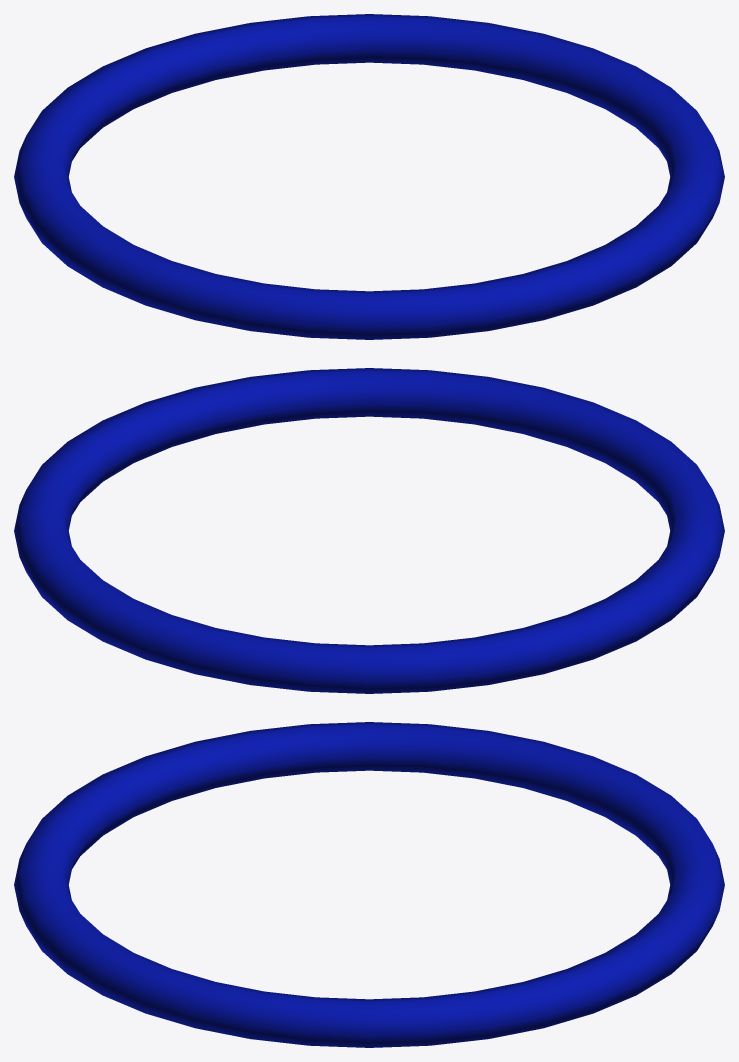
File: hoob_blue.FBX
3 renders of one model, top to bottom at view 1: azimuth 30°, elevation 25°; view 2: azimuth 150°, elevation 25°; view 3: azimuth 270°, elevation 25°, orthographic.
Visible parts, largest first — view 1: hoop_blue; view 2: hoop_blue; view 3: hoop_blue.
Part boxes in pixels (left/top/right/bottom): hoop_blue: left=14, top=14, right=724, bottom=339; hoop_blue: left=14, top=368, right=724, bottom=693; hoop_blue: left=14, top=722, right=724, bottom=1047.
Size of the model in its own units: 24.79 by 1.61 by 24.8.
